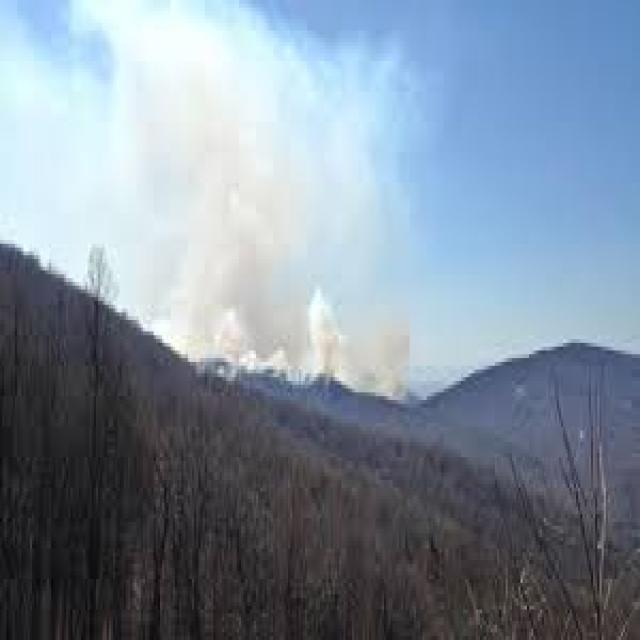Smoke: (71, 0, 412, 392)
